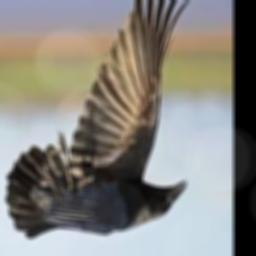Crow: (5, 0, 193, 238)
